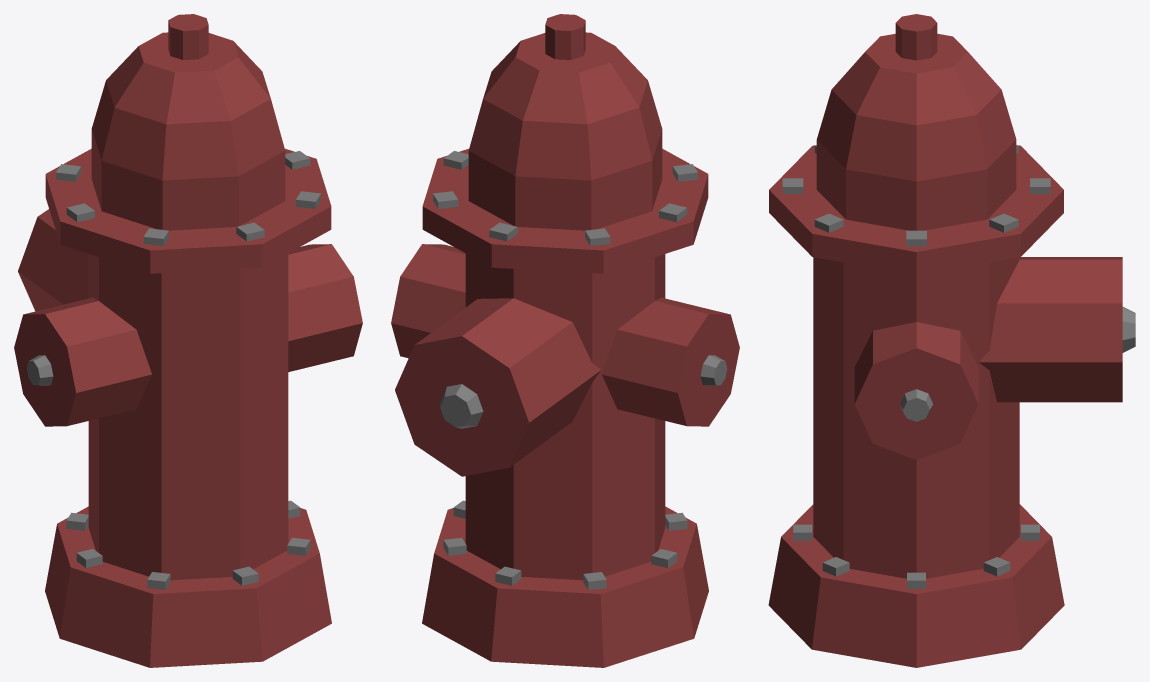
The model's file is p_hydrant.glb.
3 renders of one model, left to right at view 1: azimuth 30°, elevation 25°; view 2: azimuth 150°, elevation 25°; view 3: azimuth 270°, elevation 25°, orthographic.
Parts seen in each view (by area): view 1: File_hydrant_01_RGB_texture_0; view 2: File_hydrant_01_RGB_texture_0; view 3: File_hydrant_01_RGB_texture_0.
Boxes of the visible parts, left/top/right/bottom form: File_hydrant_01_RGB_texture_0: left=14, top=14, right=362, bottom=667; File_hydrant_01_RGB_texture_0: left=391, top=14, right=739, bottom=667; File_hydrant_01_RGB_texture_0: left=768, top=14, right=1135, bottom=667.
Bounding box in the file's own units: 5 × 9 × 5.14.
Materials: 1 (1 with a texture image).
